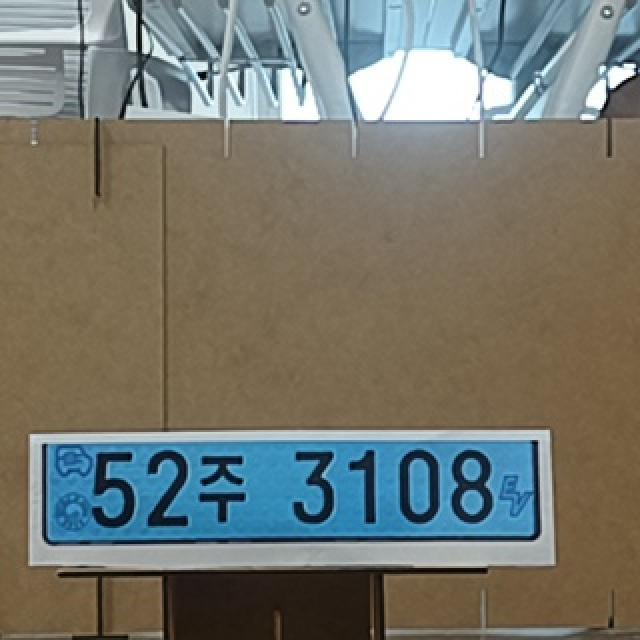electric: (40, 440, 543, 544)
